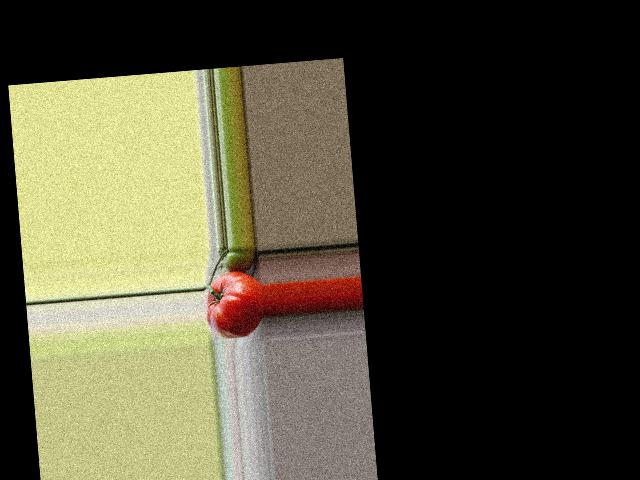tomato: (203, 269, 266, 341)
